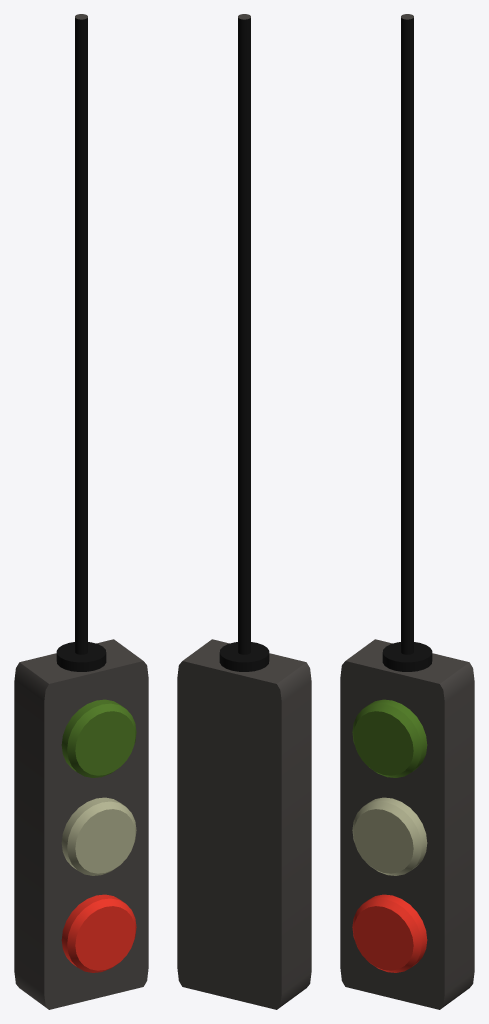
File: hangingButtonBig.fbx
3 views of the same model, side by side, from view 1: azimuth 30°, elevation 25°; view 2: azimuth 150°, elevation 25°; view 3: azimuth 330°, elevation 25° (orthographic).
Visible parts, largest first — view 1: Hanging Button Big; view 2: Hanging Button Big; view 3: Hanging Button Big.
Part boxes in pixels (x1,y1,x2,y2): Hanging Button Big: [14, 14, 148, 1009]; Hanging Button Big: [177, 14, 311, 1009]; Hanging Button Big: [340, 14, 474, 1009].
Bounding box in the file's own units: 24.01 × 15.47 × 213.
